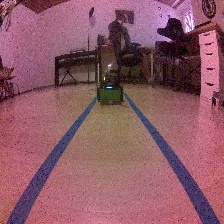rob: (95, 64, 123, 105)
